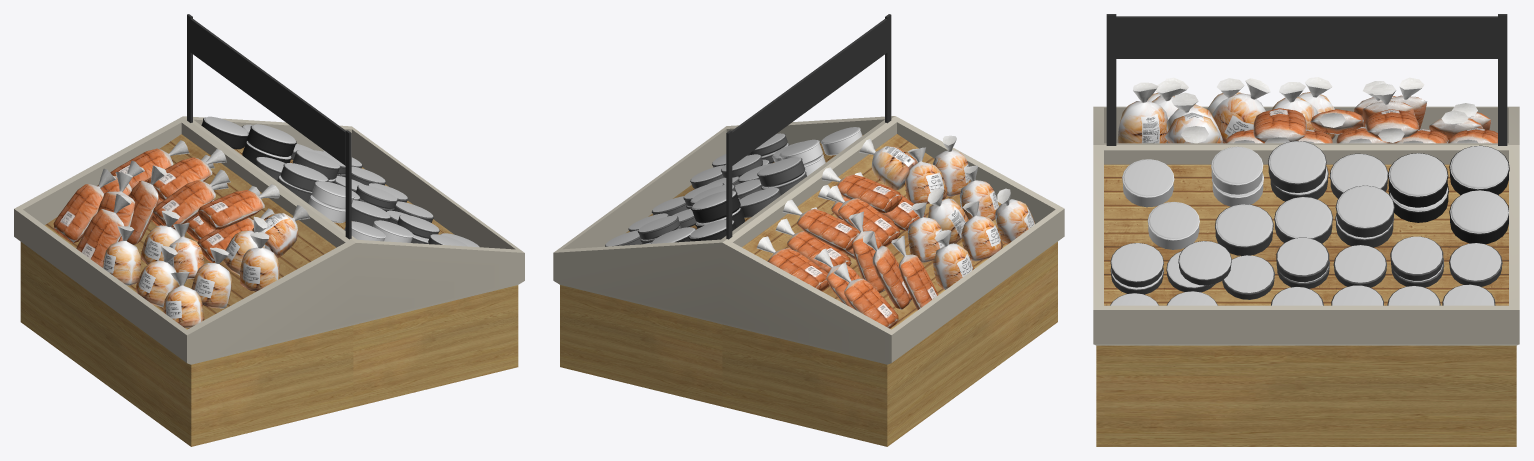
The model's file is bakery-bin-rolls-and-cakes.fbx.
The picture shows the model from 3 angles, left to right: view 1: azimuth 30°, elevation 25°; view 2: azimuth 150°, elevation 25°; view 3: azimuth 270°, elevation 25°; orthographic projection. The views are drawn at different scales.
Parts seen in each view (by area): view 1: polySurface1861_wood_008_M_0, polySurface1859_store_colors_M_0, bin_sign9_store_colors_M_0, polySurface1861_brown_planks_08_M_0, rolls_003_075_rolls_001_M_0, rolls_003_081_rolls_001_M_0, rolls_003_070_rolls_001_M_0, rolls_003_071_rolls_001_M_0, rolls_002_042_rolls_001_M_0, rolls_002_047_rolls_001_M_0, rolls_003_074_rolls_001_M_0, rolls_002_040_rolls_001_M_0 (+14 smaller); view 2: polySurface1861_wood_008_M_0, polySurface1859_store_colors_M_0, bin_sign9_store_colors_M_0, polySurface1861_brown_planks_08_M_0, rolls_003_074_rolls_001_M_0, rolls_003_081_rolls_001_M_0, rolls_003_075_rolls_001_M_0, rolls_002_040_rolls_001_M_0, rolls_002_044_rolls_001_M_0, rolls_003_071_rolls_001_M_0, rolls_002_041_rolls_001_M_0, rolls_003_078_rolls_001_M_0 (+15 smaller); view 3: polySurface1861_wood_008_M_0, polySurface1859_store_colors_M_0, bin_sign9_store_colors_M_0, polySurface1861_brown_planks_08_M_0, polySurface1860_store_colors_M_0, rolls_002_042_rolls_001_M_0, cake_bourbon_006_cakes_002_M_0, cake_bourbon_005_cakes_002_M_0, cake_bourbon_007_cakes_002_M_0, cake_angel_food_004_cakes_002_M_0, cake_angel_food_007_cakes_002_M_0, cake_angel_food_009_cakes_002_M_0 (+54 smaller).
Part boxes in pixels (left/top/right/bottom): polySurface1861_wood_008_M_0: left=20, top=242, right=518, bottom=446; polySurface1859_store_colors_M_0: left=14, top=116, right=524, bottom=364; bin_sign9_store_colors_M_0: left=190, top=18, right=345, bottom=165; polySurface1861_brown_planks_08_M_0: left=45, top=134, right=453, bottom=329; rolls_003_075_rolls_001_M_0: left=197, top=184, right=280, bottom=229; rolls_003_081_rolls_001_M_0: left=53, top=168, right=116, bottom=242; rolls_003_070_rolls_001_M_0: left=76, top=194, right=131, bottom=267; rolls_003_071_rolls_001_M_0: left=152, top=169, right=230, bottom=229; rolls_002_042_rolls_001_M_0: left=239, top=232, right=279, bottom=291; rolls_002_047_rolls_001_M_0: left=191, top=247, right=231, bottom=308; rolls_003_074_rolls_001_M_0: left=147, top=149, right=226, bottom=201; rolls_002_040_rolls_001_M_0: left=135, top=245, right=177, bottom=307; polySurface1861_wood_008_M_0: left=560, top=241, right=1057, bottom=446; polySurface1859_store_colors_M_0: left=553, top=116, right=1064, bottom=364; bin_sign9_store_colors_M_0: left=732, top=18, right=887, bottom=165; polySurface1861_brown_planks_08_M_0: left=626, top=134, right=1006, bottom=329; rolls_003_074_rolls_001_M_0: left=782, top=199, right=860, bottom=251; rolls_003_081_rolls_001_M_0: left=833, top=262, right=898, bottom=328; rolls_003_075_rolls_001_M_0: left=822, top=167, right=902, bottom=212; rolls_002_040_rolls_001_M_0: left=961, top=201, right=1002, bottom=261; rolls_002_044_rolls_001_M_0: left=859, top=138, right=917, bottom=190; rolls_003_071_rolls_001_M_0: left=826, top=185, right=900, bottom=246; rolls_002_041_rolls_001_M_0: left=933, top=230, right=974, bottom=289; rolls_003_078_rolls_001_M_0: left=757, top=236, right=829, bottom=291; polySurface1861_wood_008_M_0: left=1096, top=345, right=1516, bottom=446; polySurface1859_store_colors_M_0: left=1093, top=106, right=1519, bottom=345; bin_sign9_store_colors_M_0: left=1116, top=16, right=1497, bottom=58; polySurface1861_brown_planks_08_M_0: left=1104, top=164, right=1508, bottom=305; polySurface1860_store_colors_M_0: left=1106, top=14, right=1507, bottom=145; rolls_002_042_rolls_001_M_0: left=1117, top=82, right=1167, bottom=143; cake_bourbon_006_cakes_002_M_0: left=1450, top=190, right=1508, bottom=233; cake_bourbon_005_cakes_002_M_0: left=1388, top=153, right=1447, bottom=196; cake_bourbon_007_cakes_002_M_0: left=1450, top=146, right=1508, bottom=189; cake_angel_food_004_cakes_002_M_0: left=1215, top=204, right=1272, bottom=246; cake_angel_food_007_cakes_002_M_0: left=1336, top=185, right=1393, bottom=227; cake_angel_food_009_cakes_002_M_0: left=1268, top=141, right=1325, bottom=183.
Size of the model in its own units: 252 by 193 by 224.
